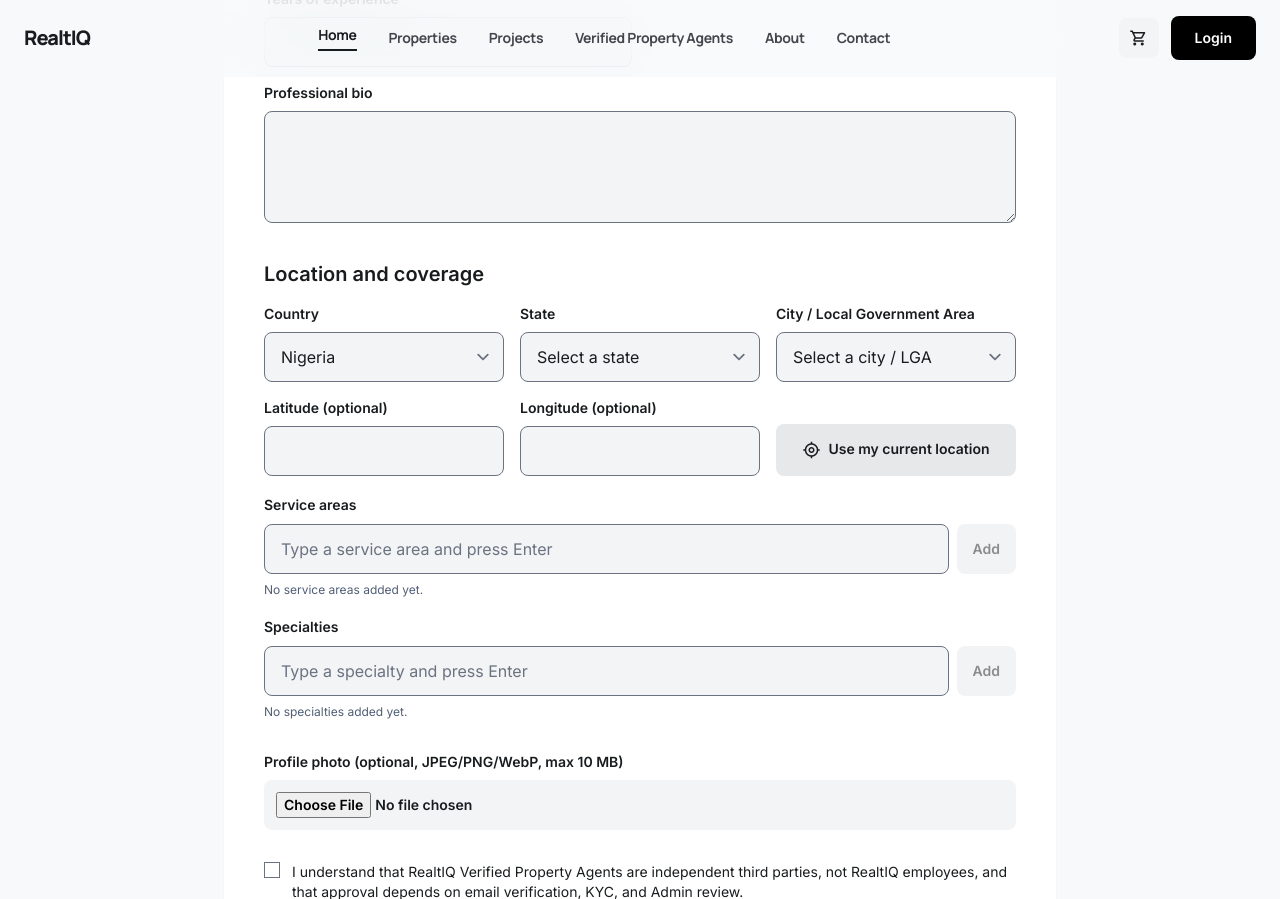
Verified Property Agent registration fields › fills latitude and longitude from browser geolocation
(page scrolled)
Click the button "Use my current location": [896, 450] box x1=776 y1=424 x2=1016 y2=476
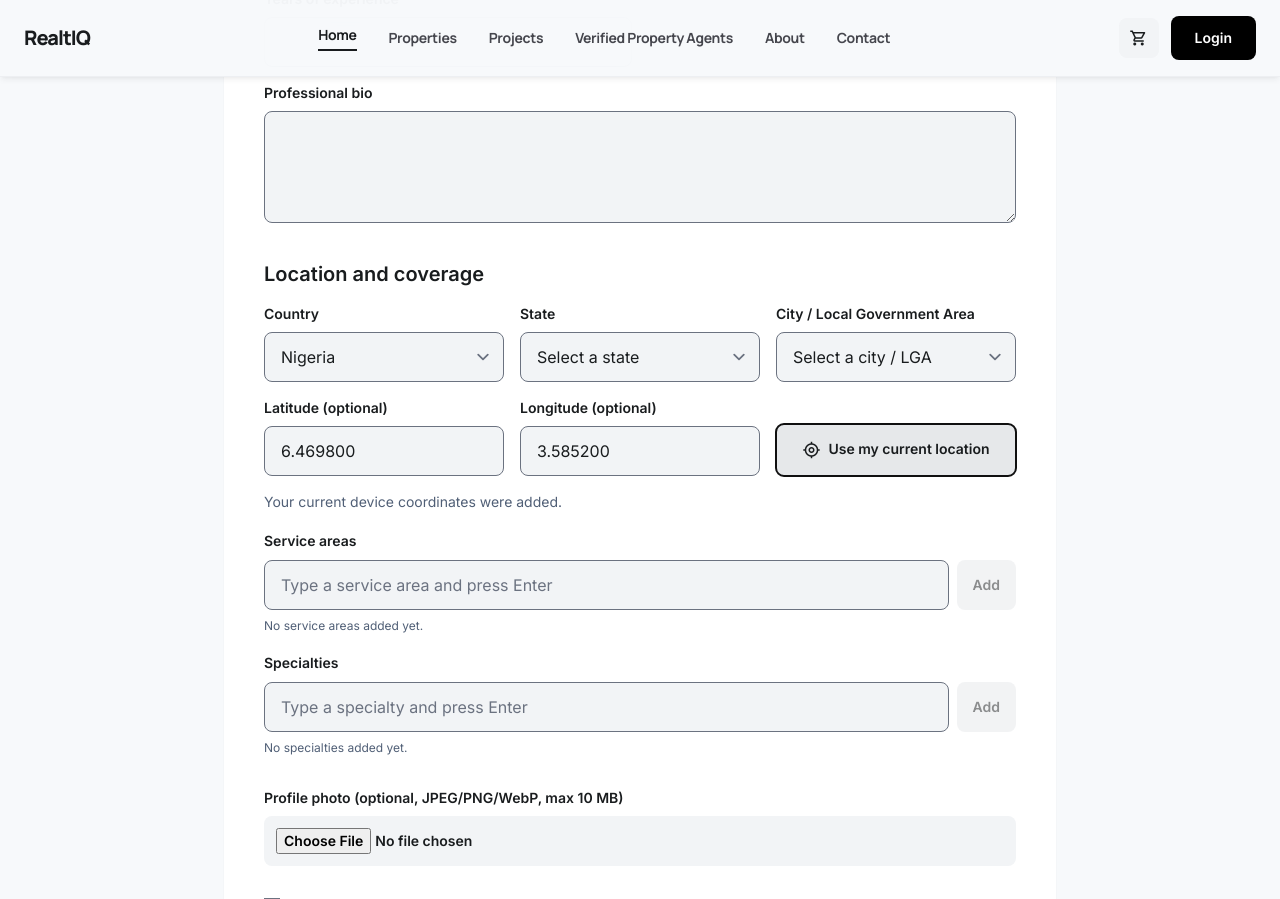
Result: the number field labelled "Latitude (optional)" holds "6.4698" at x1=264 y1=426 x2=504 y2=476
Result: the number field labelled "Longitude (optional)" holds "3.5852" at x1=520 y1=426 x2=760 y2=476
Result: the text "Your current device coordinates were added." is shown at x1=264 y1=493 x2=562 y2=510
